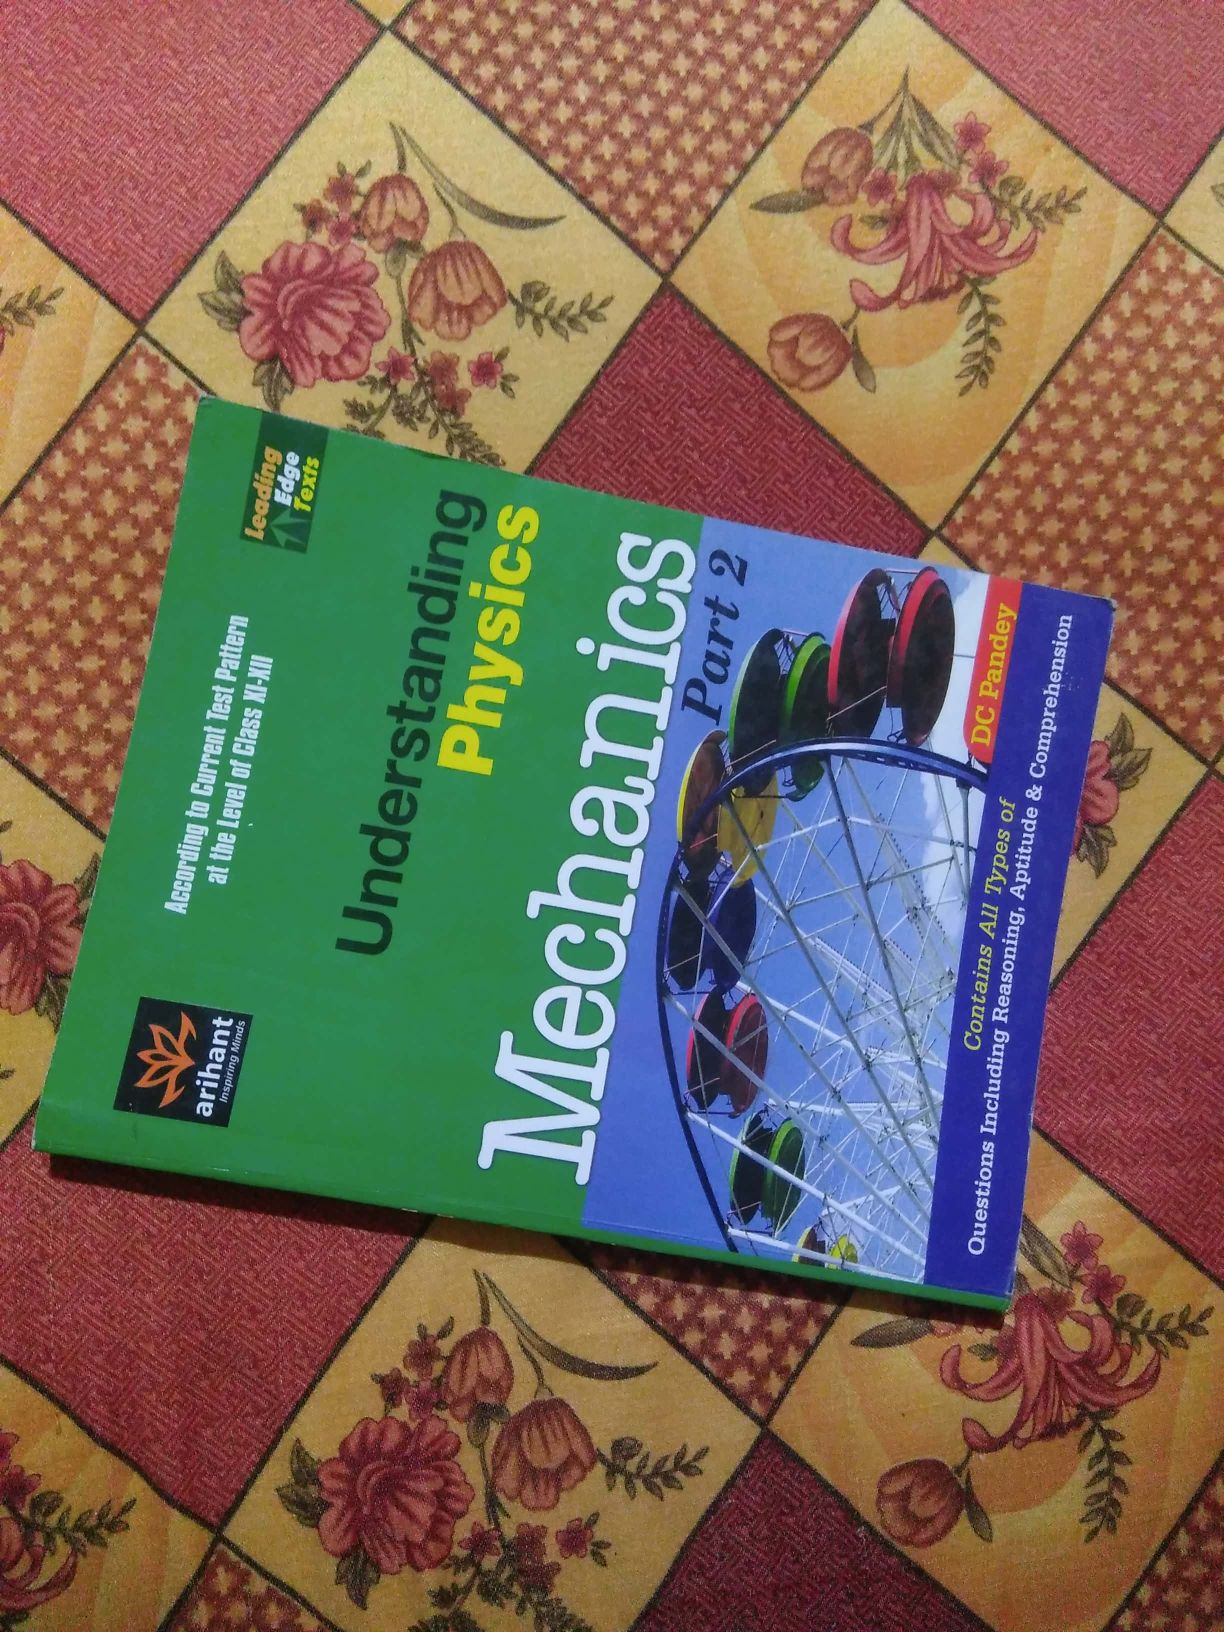mechanics: (49, 375, 1148, 1356)
